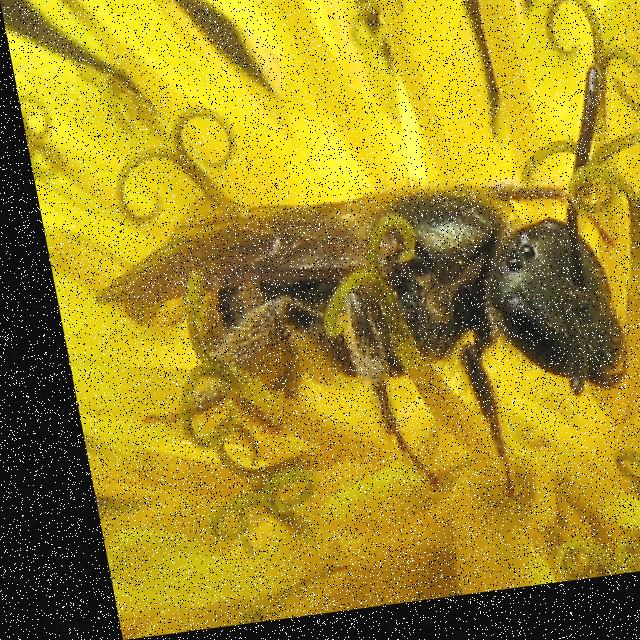Lasioglossum: (68, 67, 640, 549)
